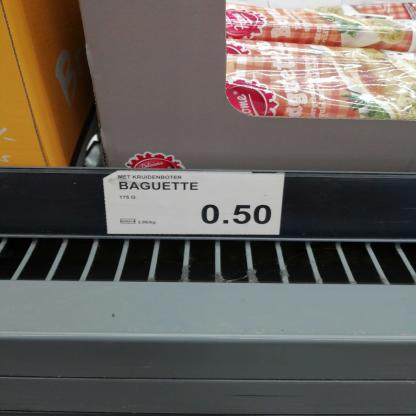prtg: (104, 170, 286, 235)
